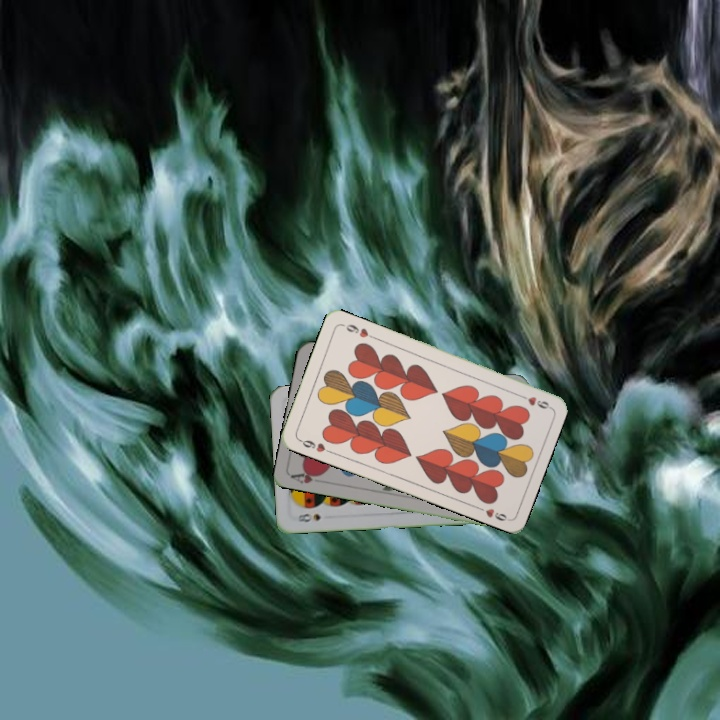H9: (295, 435, 334, 456), (513, 390, 552, 411)
HA: (288, 466, 328, 486)
S8: (293, 509, 323, 525)
